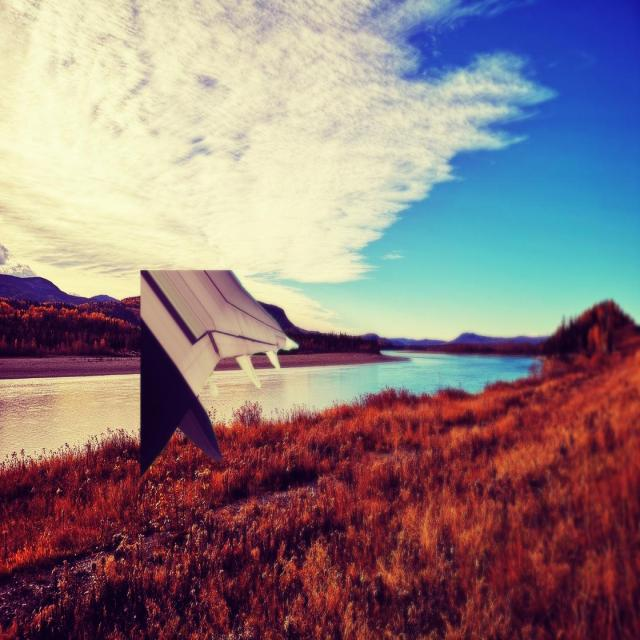airplane: (138, 268, 298, 476)
